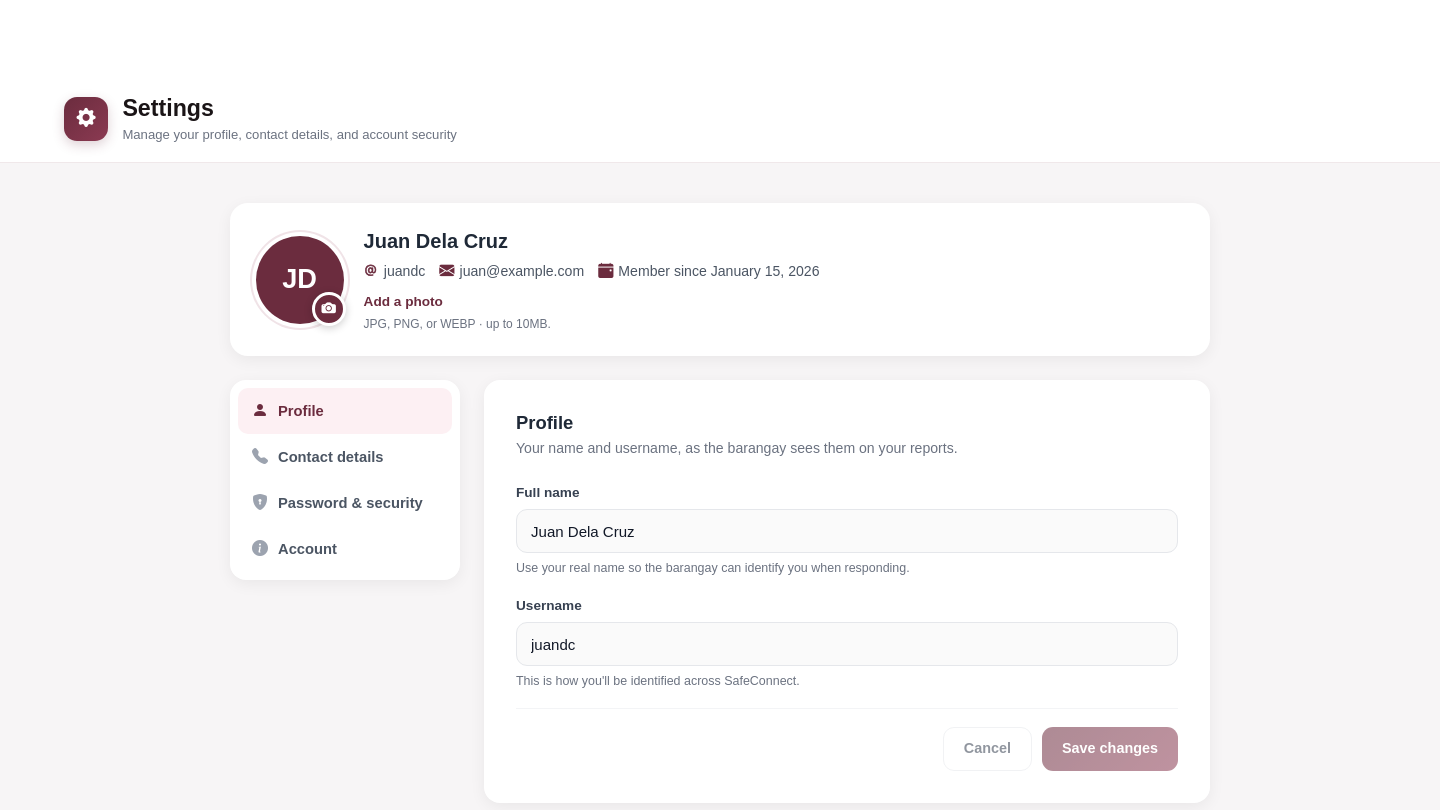
Scenario: Full name › Cancel puts the saved values back
Replace the text in the field labelled "Full name" with "Someone Else" at (847, 531), box [516,509,1178,553]
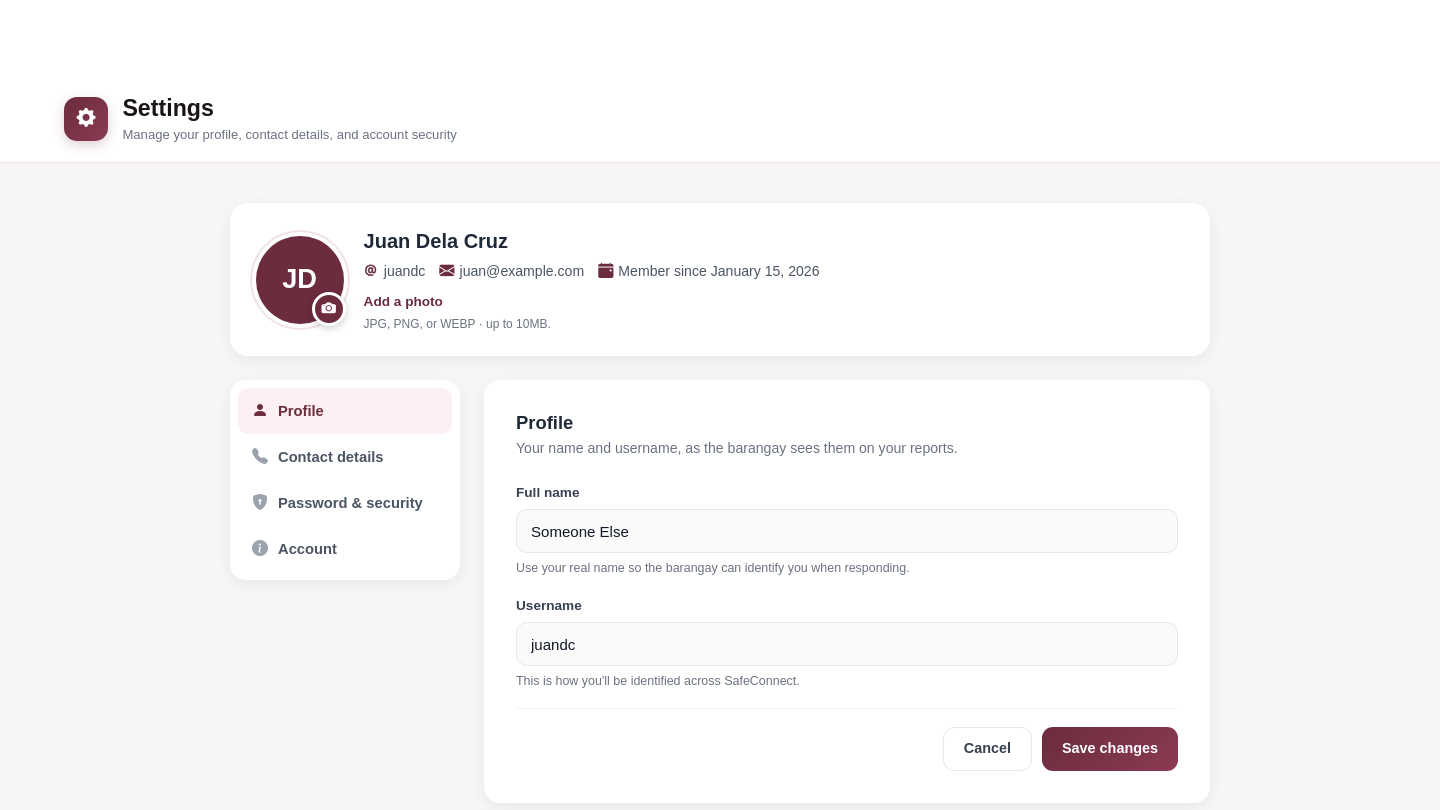
Click the button "Cancel".
click(987, 749)  # box [943,727,1032,771]
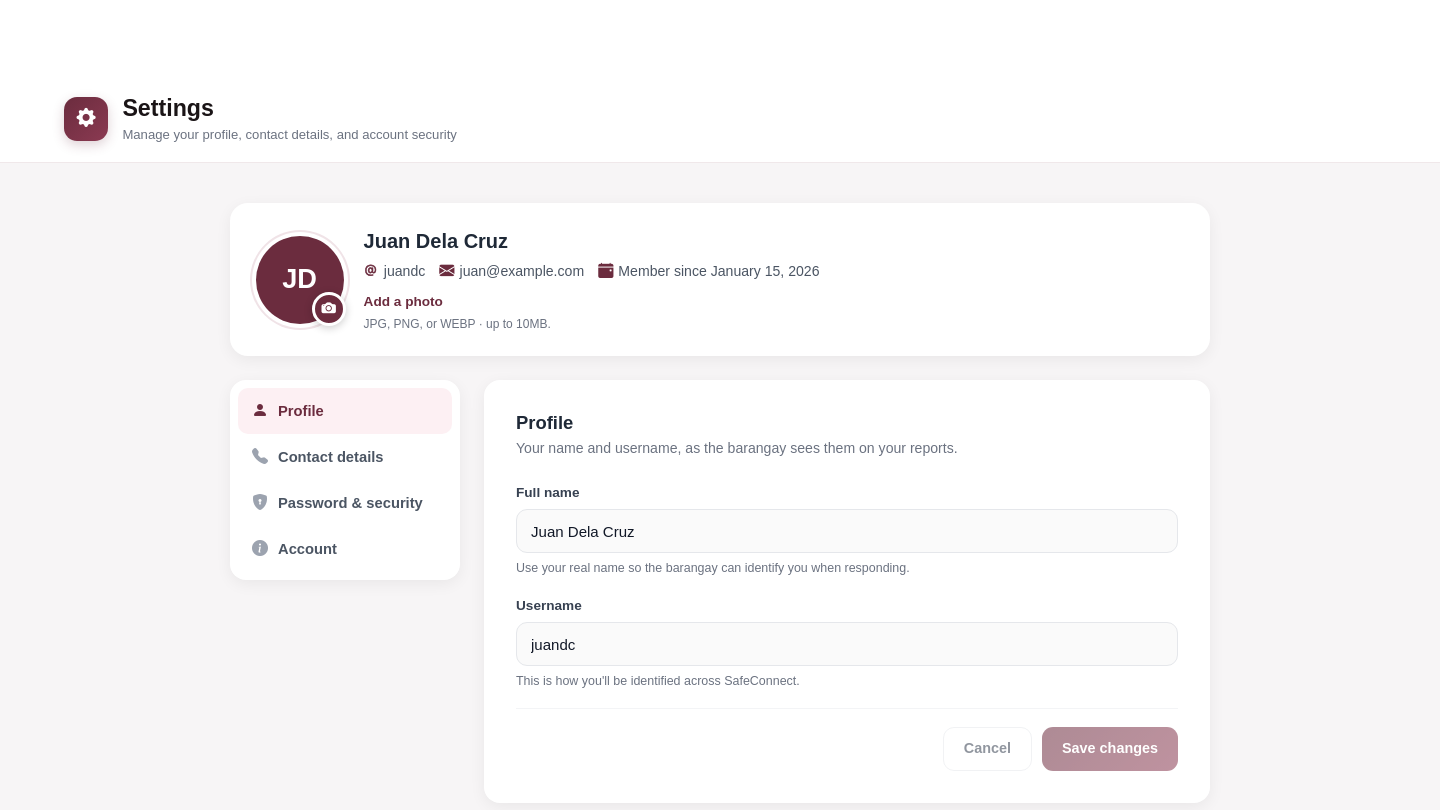
Result: the field labelled "Full name" holds "Juan Dela Cruz" at [516,509,1178,553]
